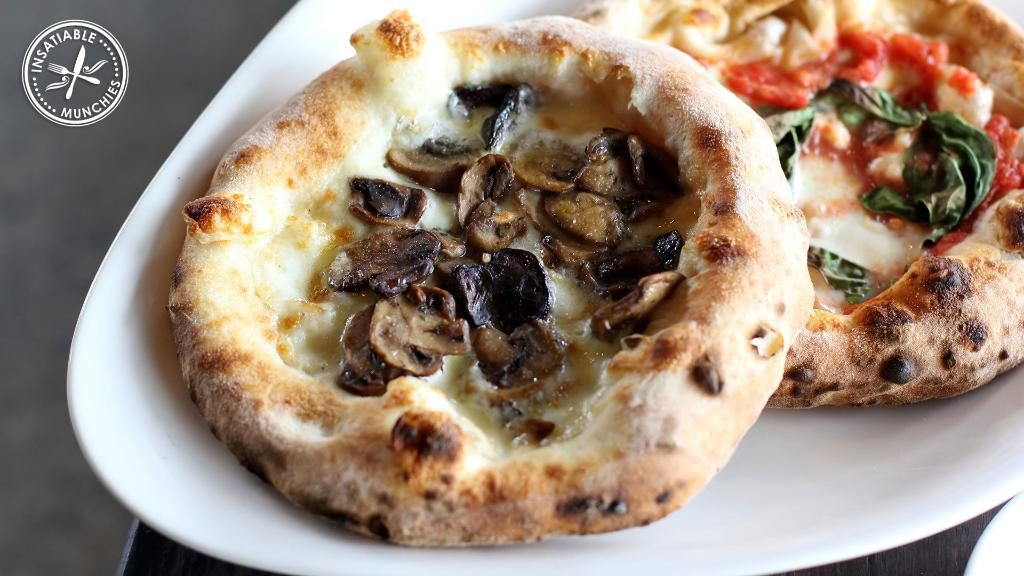Pizza: (158, 7, 814, 545), (584, 0, 1023, 415)
